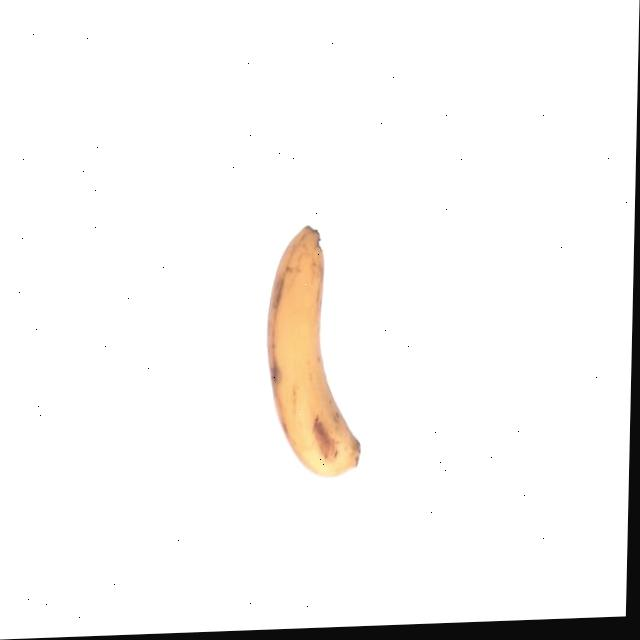banana: (262, 220, 372, 475)
